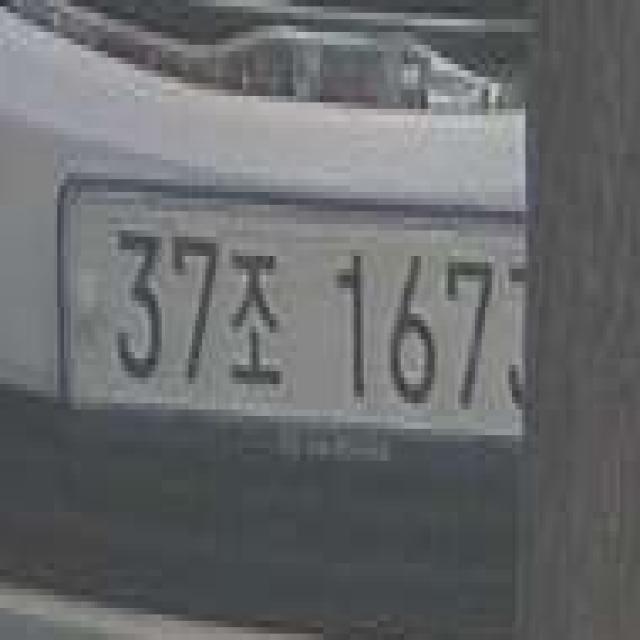1: (337, 243, 370, 397)
3: (108, 218, 165, 384)
6: (388, 256, 434, 410)
7: (438, 256, 495, 416), (168, 230, 219, 378)
jo: (226, 250, 283, 390)
license_plate: (57, 179, 529, 442)
